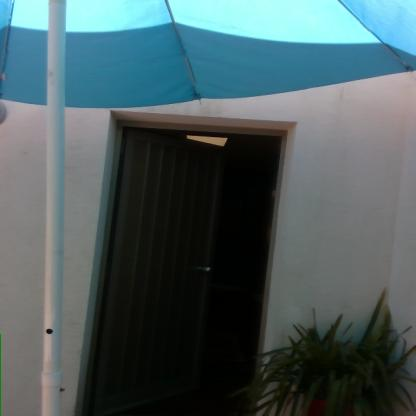semi: (66, 98, 311, 414)
